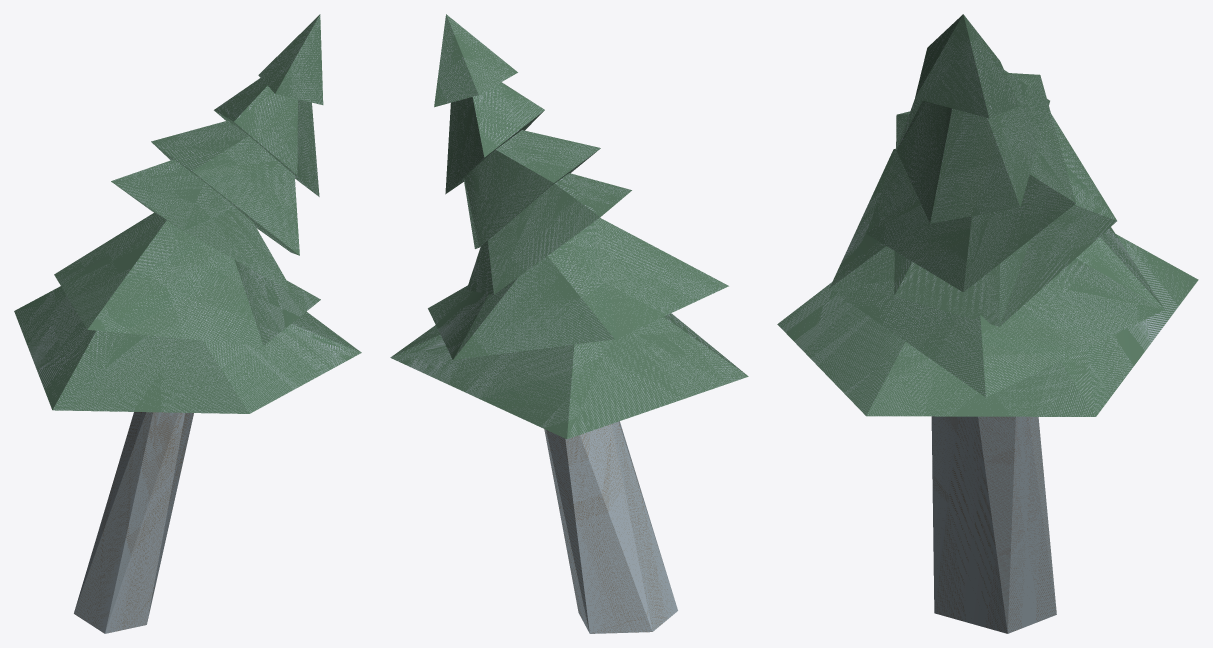
File: Tree_Pine_Tall_05.fbx
3 renders of one model, left to right at view 1: azimuth 30°, elevation 25°; view 2: azimuth 150°, elevation 25°; view 3: azimuth 270°, elevation 25°, orthographic. The views are drawn at different scales.
Visible parts, largest first — view 1: Model; view 2: Model; view 3: Model.
Boxes of the visible parts, left/top/right/bottom form: Model: left=14, top=14, right=361, bottom=633; Model: left=390, top=14, right=748, bottom=633; Model: left=777, top=14, right=1198, bottom=633.
Size of the model in its own units: 915 by 1640 by 876.
